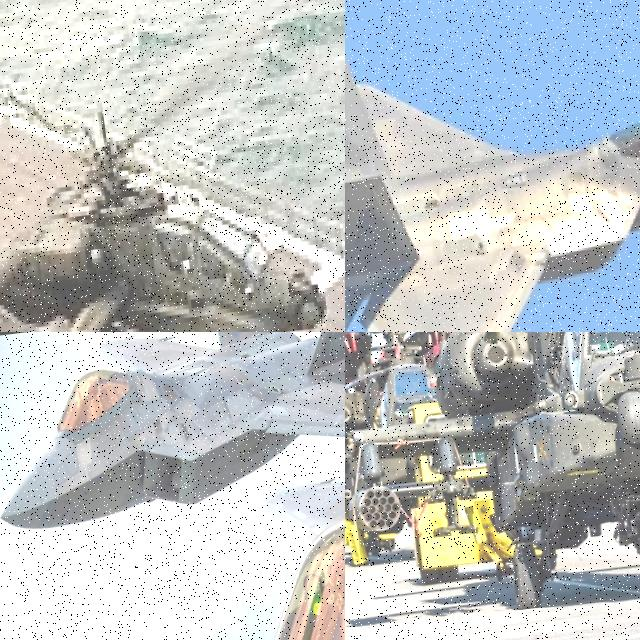Apache: (0, 22, 334, 332), (358, 332, 640, 609)
F22: (345, 0, 640, 332), (77, 332, 345, 640), (0, 332, 345, 528)
